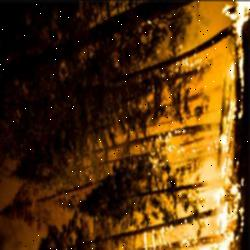fire: (161, 1, 250, 250)
